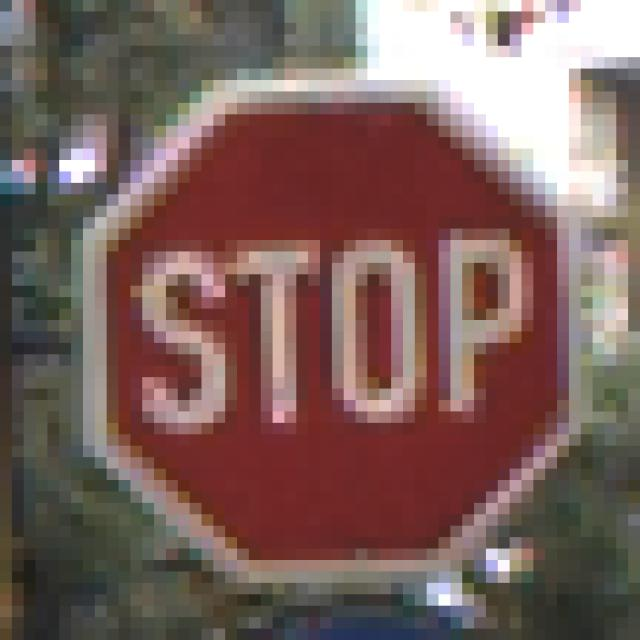STOP: (72, 69, 582, 584)
